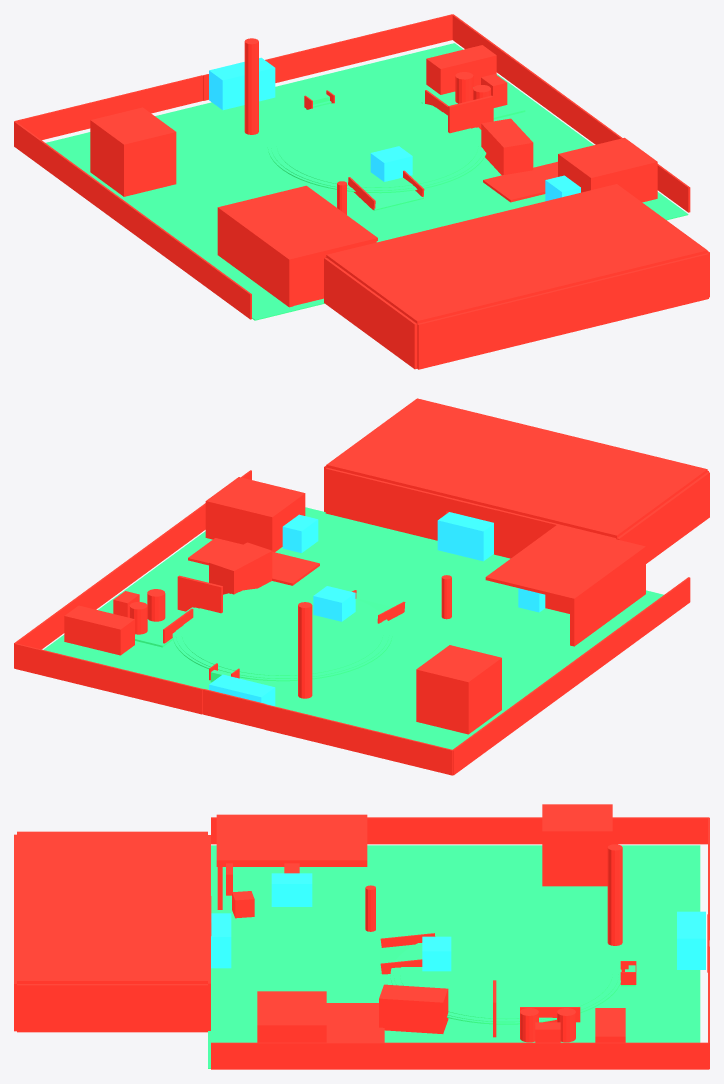
Rendered from charleston-operations-yard-runtime.glb.
The picture shows the model from 3 angles, top to bottom: view 1: azimuth 30°, elevation 25°; view 2: azimuth 150°, elevation 25°; view 3: azimuth 270°, elevation 25°; orthographic projection. The views are drawn at different scales.
Visible parts, largest first — view 1: WALK_YardSlab, BLOCK_OperationsRoof, BLOCK_OperationsWallSouth, WALK_Pad01Deck, BLOCK_FenceWest, BLOCK_ContainerWestStack, BLOCK_MaintenanceRoof, BLOCK_FenceEast, BLOCK_FenceNorthEast, BLOCK_OperationsWallWest, BLOCK_CargoBankBooth, BLOCK_FenceNorthWest (+14 smaller); view 2: WALK_YardSlab, BLOCK_OperationsRoof, WALK_Pad01Deck, BLOCK_FenceWest, BLOCK_MaintenanceRoof, BLOCK_ContainerWestStack, BLOCK_OperationsFrontEast, BLOCK_CargoBankBooth, BLOCK_FenceNorthEast, BLOCK_FenceNorthWest, BLOCK_FenceEast, BLOCK_MaintenanceBack (+17 smaller); view 3: WALK_YardSlab, BLOCK_OperationsRoof, BLOCK_FenceEast, WALK_Pad01Deck, BLOCK_OperationsWallEast, BLOCK_FenceWest, BLOCK_MaintenanceRoof, BLOCK_ContainerWestStack, BLOCK_CargoBankBooth, BLOCK_Forklift, BLOCK_CargoScale, TRIGGER_CityGate (+16 smaller).
Boxes of the visible parts, x1=… form: WALK_YardSlab: x1=46, y1=43, x2=688, y2=320; BLOCK_OperationsRoof: x1=326, y1=184, x2=707, y2=323; BLOCK_OperationsWallSouth: x1=417, y1=253, x2=708, y2=369; WALK_Pad01Deck: x1=276, y1=102, x2=478, y2=187; BLOCK_FenceWest: x1=14, y1=121, x2=251, y2=319; BLOCK_ContainerWestStack: x1=90, y1=107, x2=176, y2=196; BLOCK_MaintenanceRoof: x1=220, y1=185, x2=377, y2=261; BLOCK_FenceEast: x1=452, y1=14, x2=690, y2=212; BLOCK_FenceNorthEast: x1=265, y1=14, x2=452, y2=82; BLOCK_OperationsWallWest: x1=324, y1=257, x2=417, y2=369; BLOCK_CargoBankBooth: x1=558, y1=137, x2=657, y2=202; BLOCK_FenceNorthWest: x1=14, y1=75, x2=202, y2=139; WALK_YardSlab: x1=43, y1=507, x2=663, y2=749; BLOCK_OperationsRoof: x1=326, y1=398, x2=707, y2=538; WALK_Pad01Deck: x1=181, y1=590, x2=383, y2=675; BLOCK_FenceWest: x1=453, y1=577, x2=690, y2=775; BLOCK_MaintenanceRoof: x1=485, y1=525, x2=644, y2=600; BLOCK_ContainerWestStack: x1=416, y1=645, x2=501, y2=734; BLOCK_OperationsFrontEast: x1=325, y1=467, x2=448, y2=540; BLOCK_CargoBankBooth: x1=205, y1=477, x2=305, y2=552; BLOCK_FenceNorthEast: x1=14, y1=643, x2=202, y2=714; BLOCK_FenceNorthWest: x1=264, y1=704, x2=452, y2=775; BLOCK_FenceEast: x1=14, y1=470, x2=251, y2=667; BLOCK_MaintenanceBack: x1=570, y1=546, x2=645, y2=646; WALK_YardSlab: x1=208, y1=845, x2=700, y2=1068; BLOCK_OperationsRoof: x1=17, y1=831, x2=207, y2=983; BLOCK_FenceEast: x1=211, y1=1042, x2=708, y2=1069; WALK_Pad01Deck: x1=400, y1=929, x2=612, y2=1019; BLOCK_OperationsWallEast: x1=17, y1=984, x2=207, y2=1032; BLOCK_FenceWest: x1=211, y1=817, x2=708, y2=844; BLOCK_MaintenanceRoof: x1=216, y1=815, x2=367, y2=863; BLOCK_ContainerWestStack: x1=542, y1=804, x2=612, y2=886; BLOCK_CargoBankBooth: x1=257, y1=991, x2=326, y2=1042; BLOCK_Forklift: x1=379, y1=984, x2=448, y2=1033; BLOCK_CargoScale: x1=326, y1=1003, x2=384, y2=1042; TRIGGER_CityGate: x1=677, y1=911, x2=705, y2=969.
Bounding box in the file's own units: 46.18 × 9.2 × 60.09.
